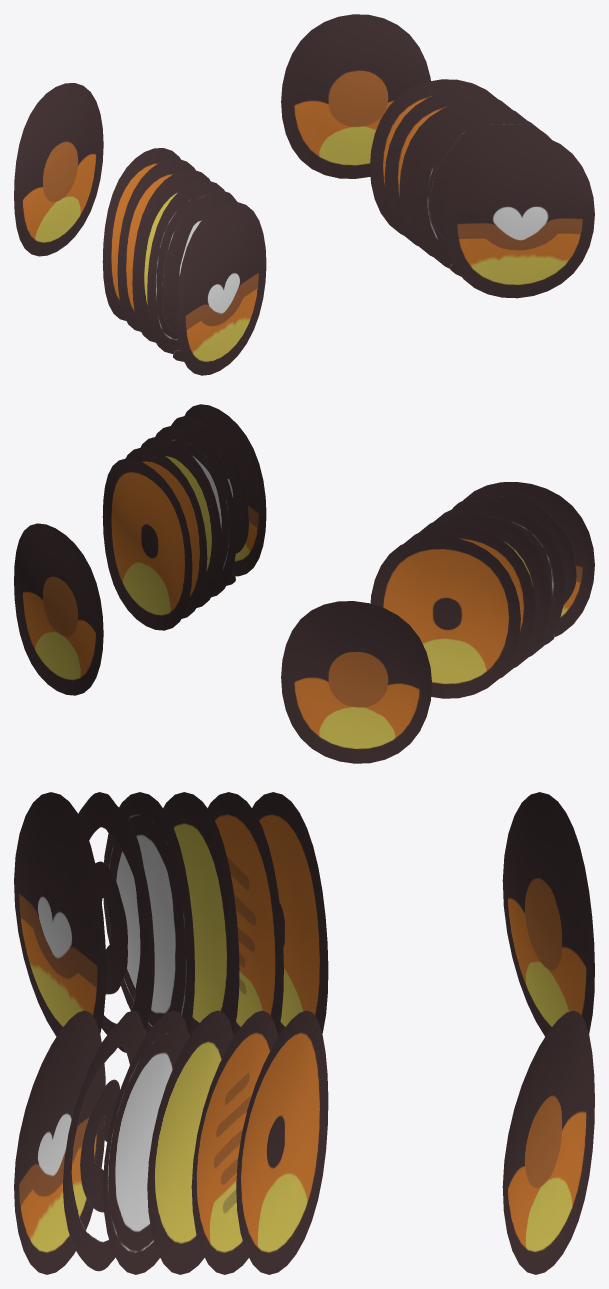
The model's file is Head_baked_1.obj.
The picture shows the model from 3 angles, top to bottom: view 1: azimuth 30°, elevation 25°; view 2: azimuth 150°, elevation 25°; view 3: azimuth 270°, elevation 25°; orthographic projection. The views are drawn at different scales.
Bounding box in the file's own units: 0.1631 × 0.061 × 0.1308.
Materials: 1 (1 with a texture image).
